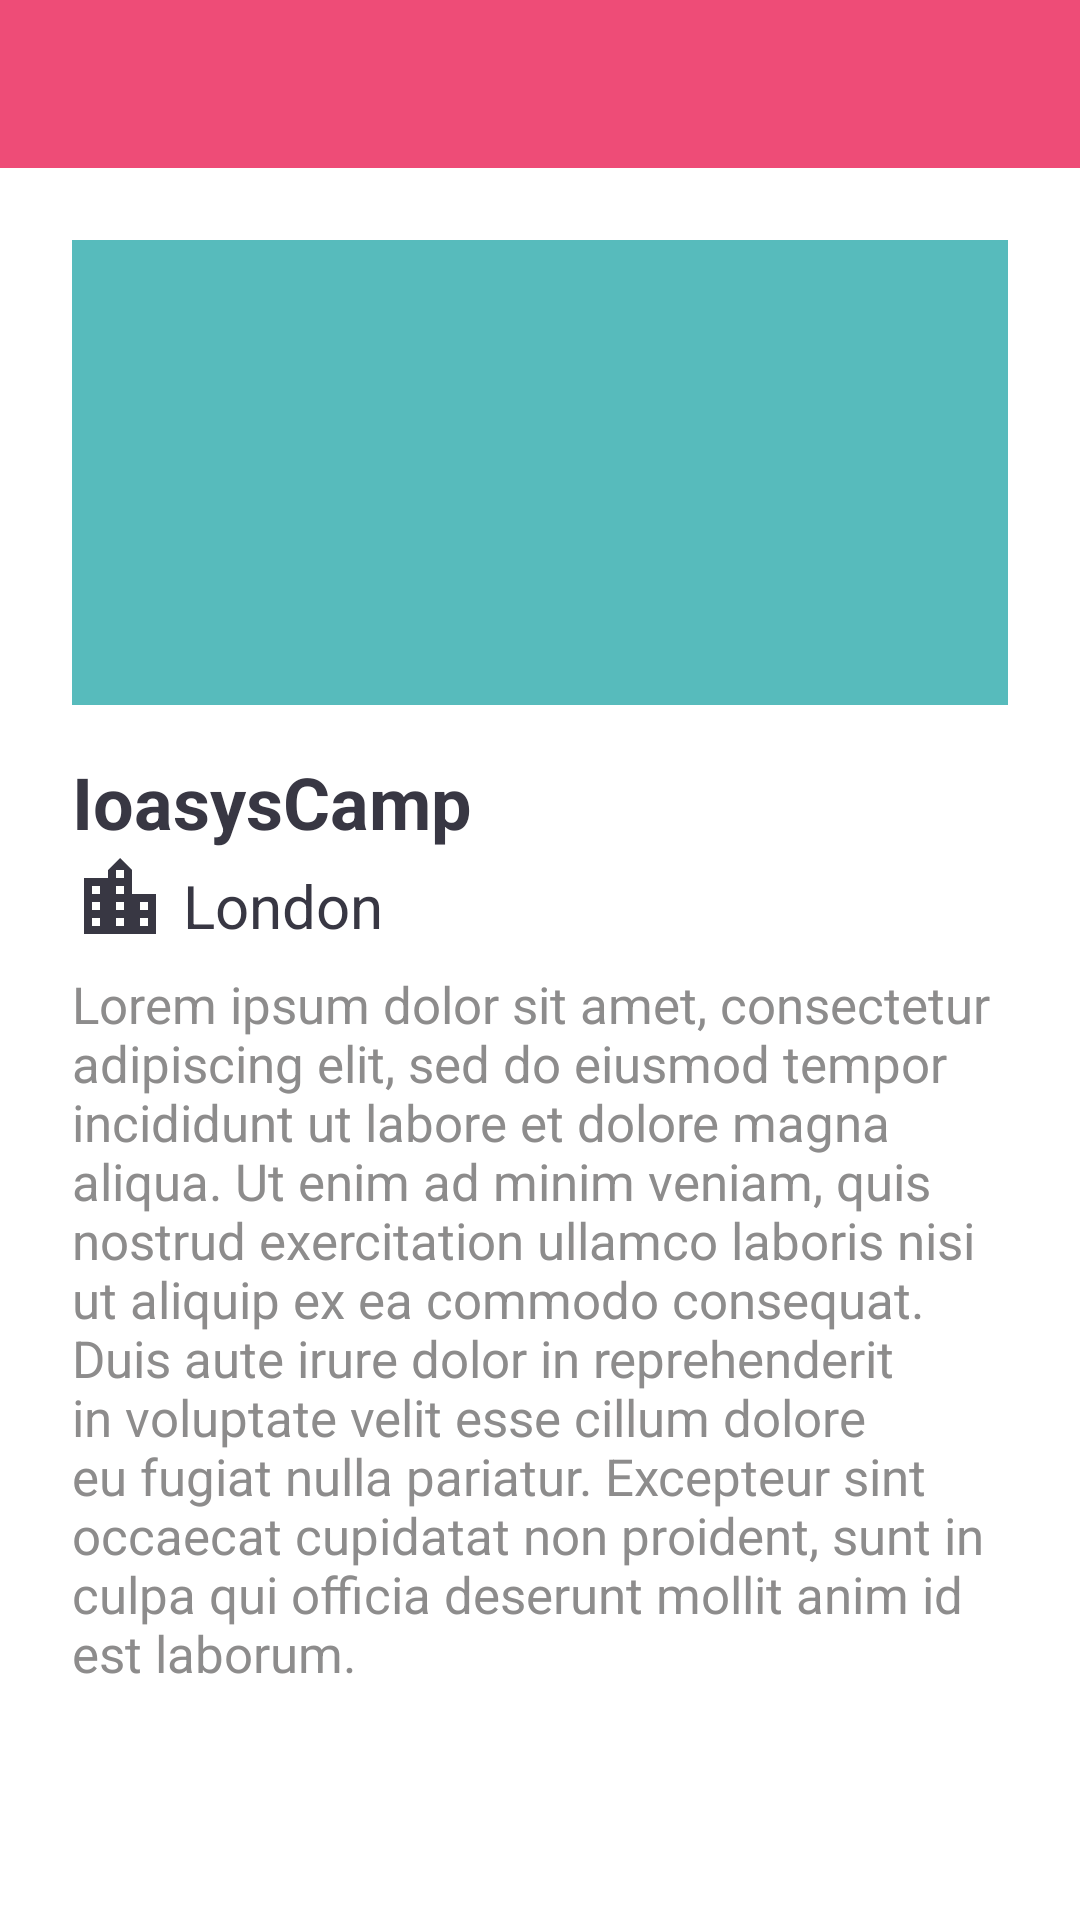

Locate icon controls on the screen. Image size 1080x1920, boxes as [left=x1, top=y1, right=x2, bottom=y2].
location: [left=84, top=858, right=156, bottom=934]
